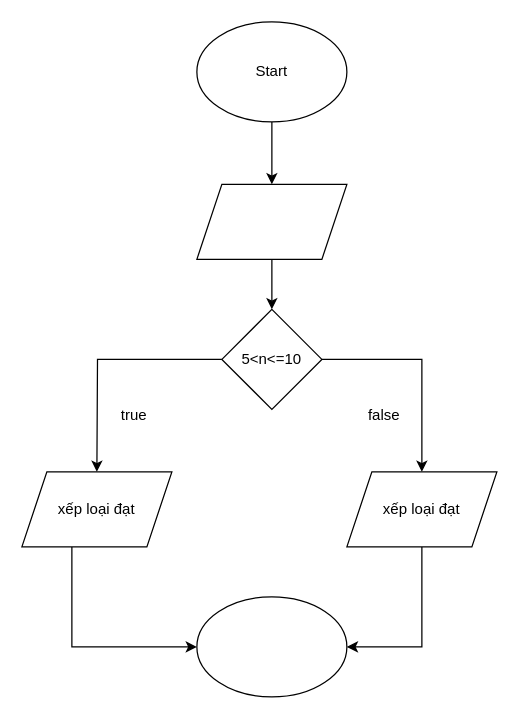
This 519x719 diagram has some shape labels left out. The centre of each missing label's shape, as x and y in pixels:
end: the point at 271,646
Nhập n: the point at 271,221
